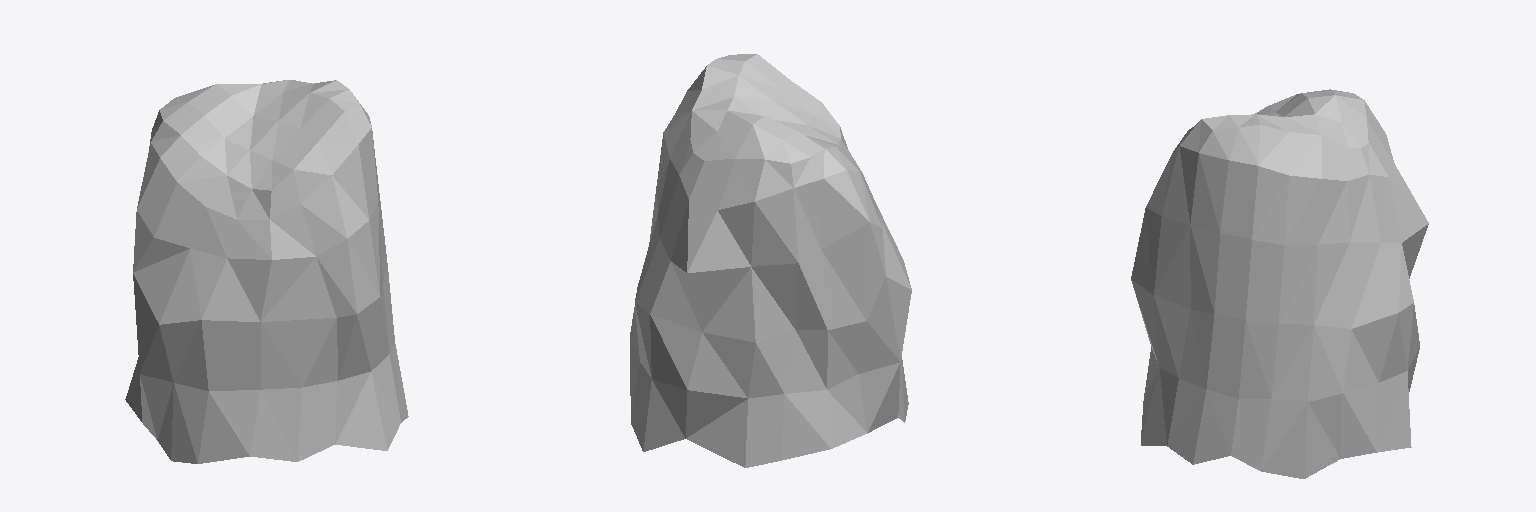
File: wall7.obj
The picture shows the model from 3 angles: view 1: azimuth 30°, elevation 25°; view 2: azimuth 150°, elevation 25°; view 3: azimuth 270°, elevation 25°; orthographic projection.
Parts seen in each view (by area): view 1: Cube.004_Cube.005; view 2: Cube.004_Cube.005; view 3: Cube.004_Cube.005.
Boxes of the visible parts, <box> form: Cube.004_Cube.005: <box>125,80,408,463</box>; Cube.004_Cube.005: <box>630,54,911,467</box>; Cube.004_Cube.005: <box>1131,89,1428,478</box>.
Bounding box in the file's own units: 10.6 × 13.5 × 11.